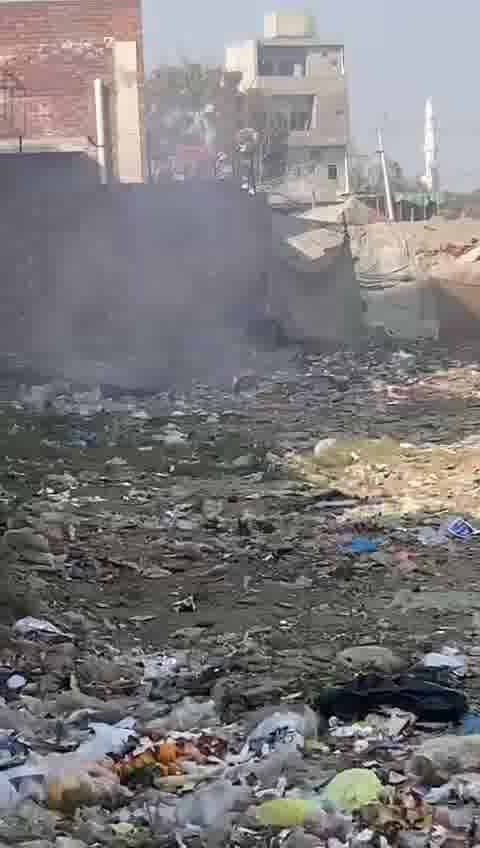garbage: (5, 372, 480, 848)
